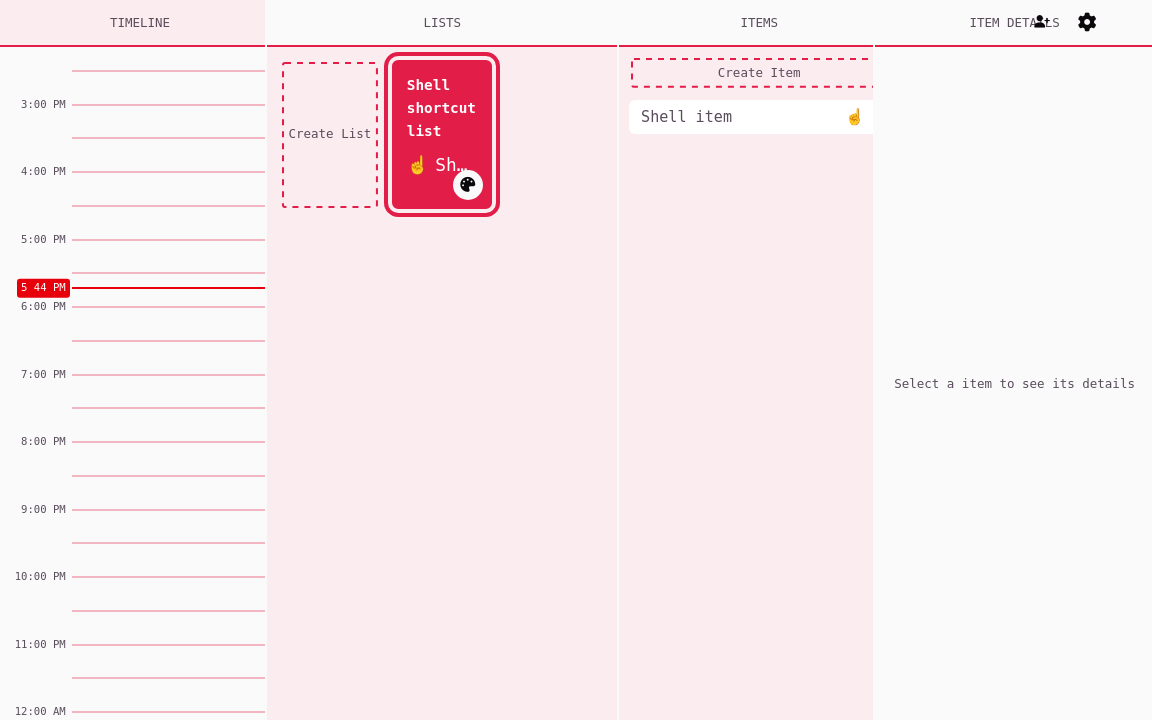
Test: PlannerShell contextual shortcuts › opens Deleted Items from the counted options button
(page scrolled)
Click the button named "Options".
click(1087, 22)  # box [1064,0,1110,45]
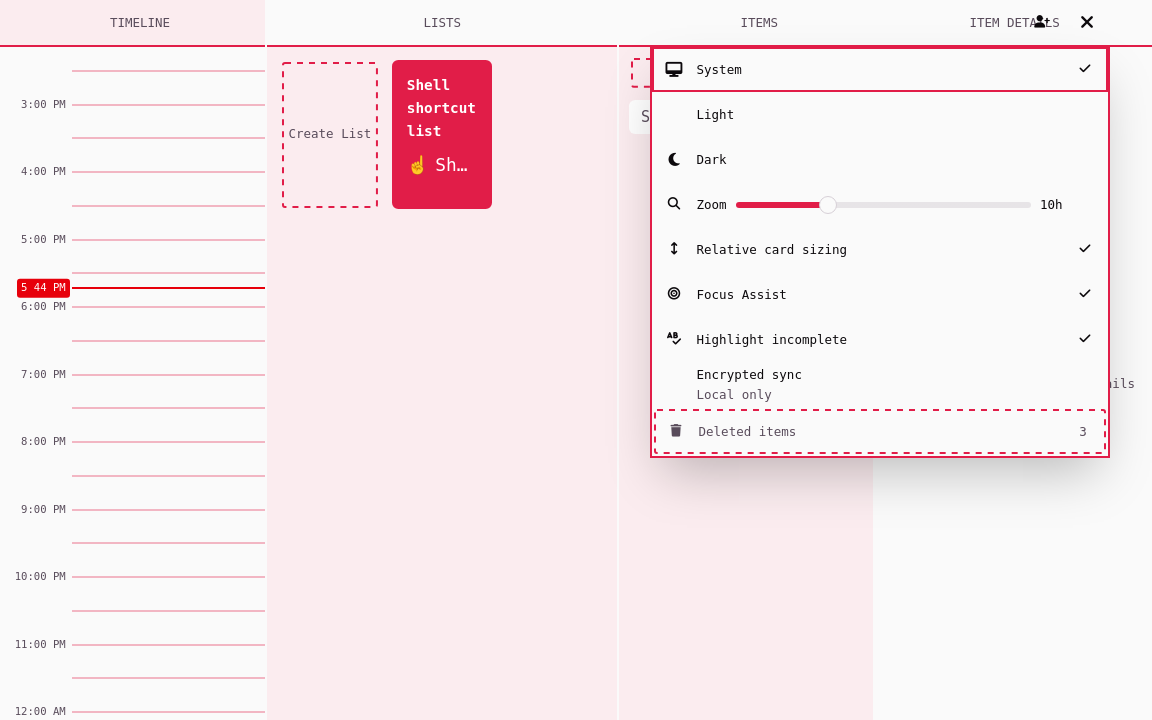
Expected: the button with aria-label "Deleted items, 3" shows "3"
Expected: the icon with class "fa-trash" is shown, [671,425,682,438]
Click the button with aria-label "Deleted items, 3".
click(880, 432)  # box [652,407,1108,456]
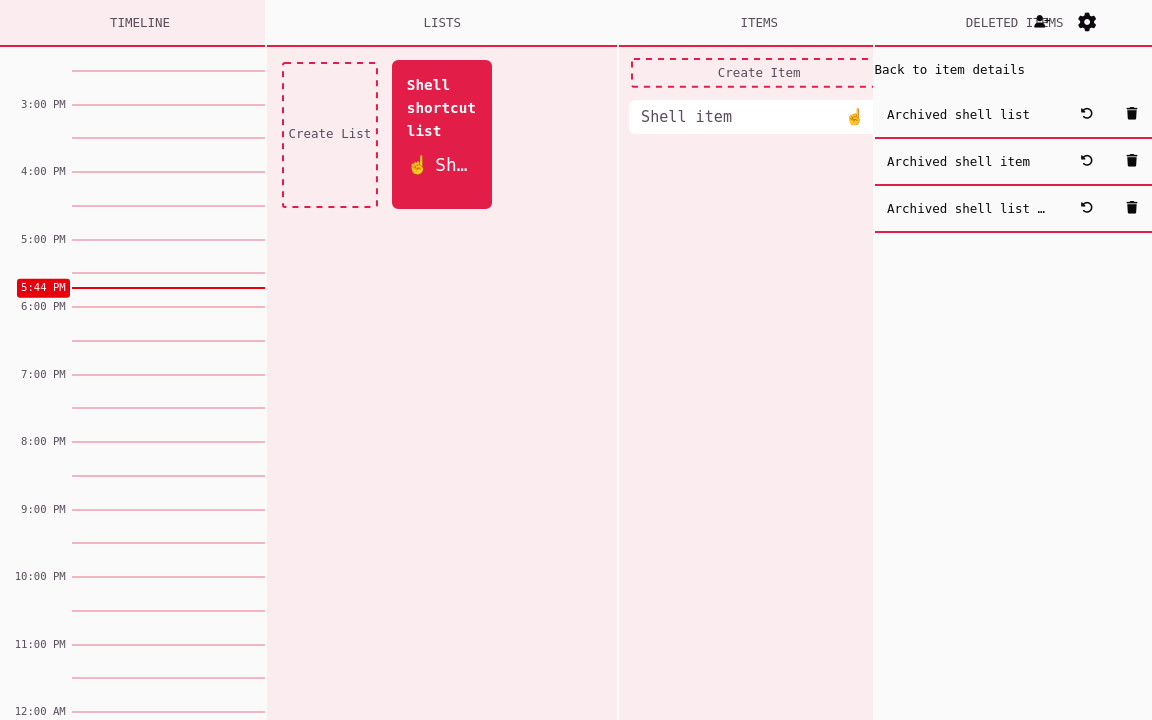
Expected: the heading "Deleted Items" is shown, [966,14,1063,30]
